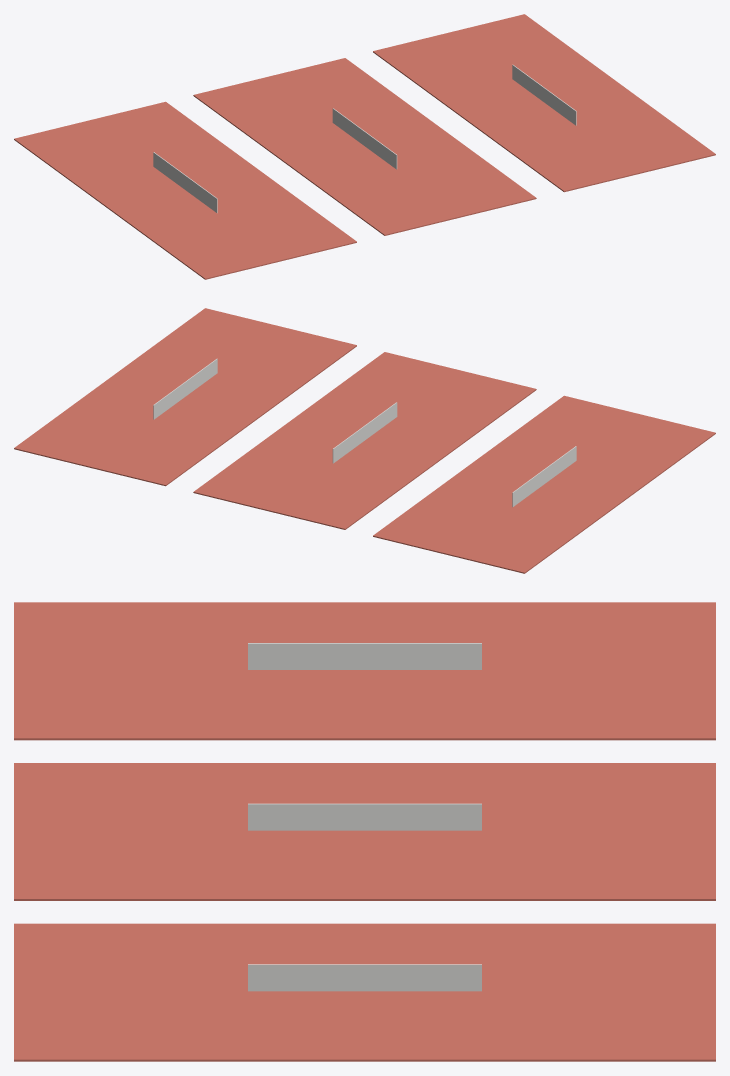
Rendered from EN_TennisCourts.glb.
3 views of the same model, one above another, from view 1: azimuth 30°, elevation 25°; view 2: azimuth 150°, elevation 25°; view 3: azimuth 270°, elevation 25° (orthographic). The views are drawn at different scales.
Visible parts, largest first — view 1: EN_TennisCourts; view 2: EN_TennisCourts; view 3: EN_TennisCourts.
Part boxes in pixels (x1=…): EN_TennisCourts: x1=14, y1=14, x2=715, y2=279; EN_TennisCourts: x1=14, y1=308, x2=715, y2=573; EN_TennisCourts: x1=14, y1=602, x2=715, y2=1061.
Size of the model in its own units: 37 by 1.1 by 24.
